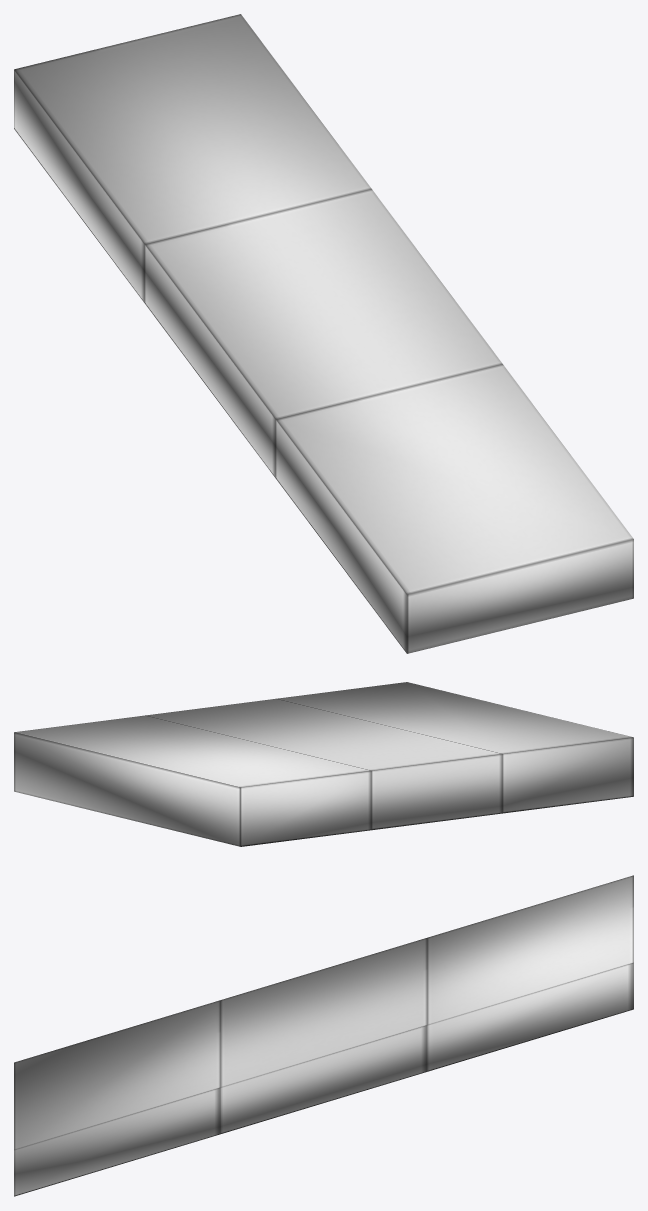
File: Ramp-08.fbx
3 views of the same model, one above another, from view 1: azimuth 30°, elevation 25°; view 2: azimuth 150°, elevation 25°; view 3: azimuth 270°, elevation 25° (orthographic). The views are drawn at different scales.
Parts seen in each view (by area): view 1: Ramp-08; view 2: Ramp-08; view 3: Ramp-08.
Part boxes in pixels (x1,y1,x2,y2): Ramp-08: [14, 14, 633, 653]; Ramp-08: [14, 682, 633, 846]; Ramp-08: [14, 875, 633, 1196].
Size of the model in its own units: 1 by 1.25 by 3.
